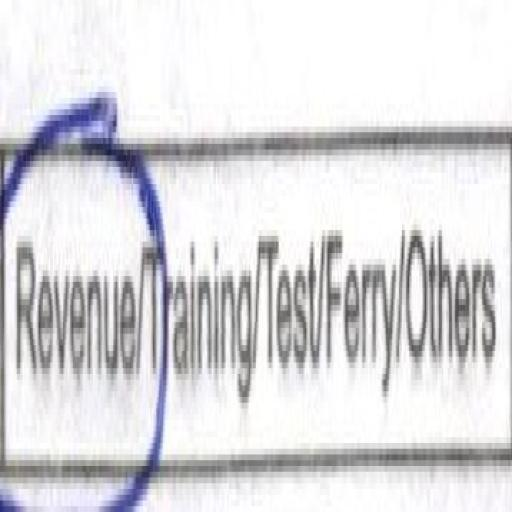check: (0, 79, 146, 512)
